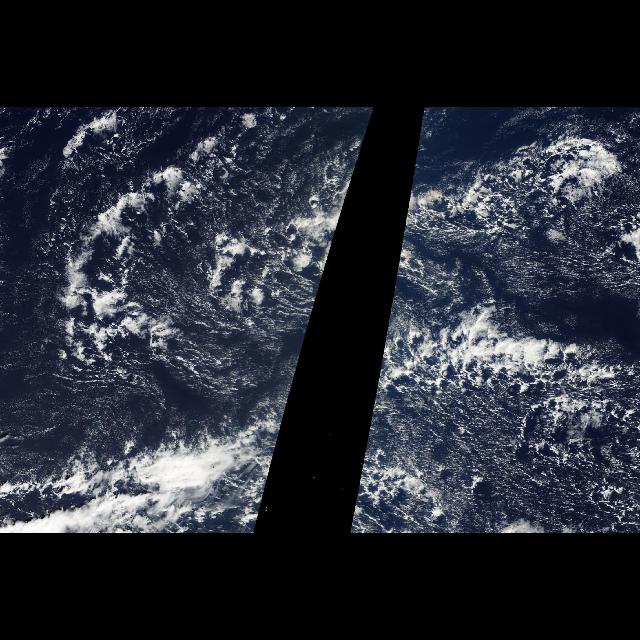Fish: (391, 308, 633, 389)
Gravel: (361, 107, 639, 533), (51, 136, 251, 334), (361, 108, 375, 148)
Sugar: (0, 342, 272, 456), (390, 388, 556, 522), (520, 201, 620, 307)
